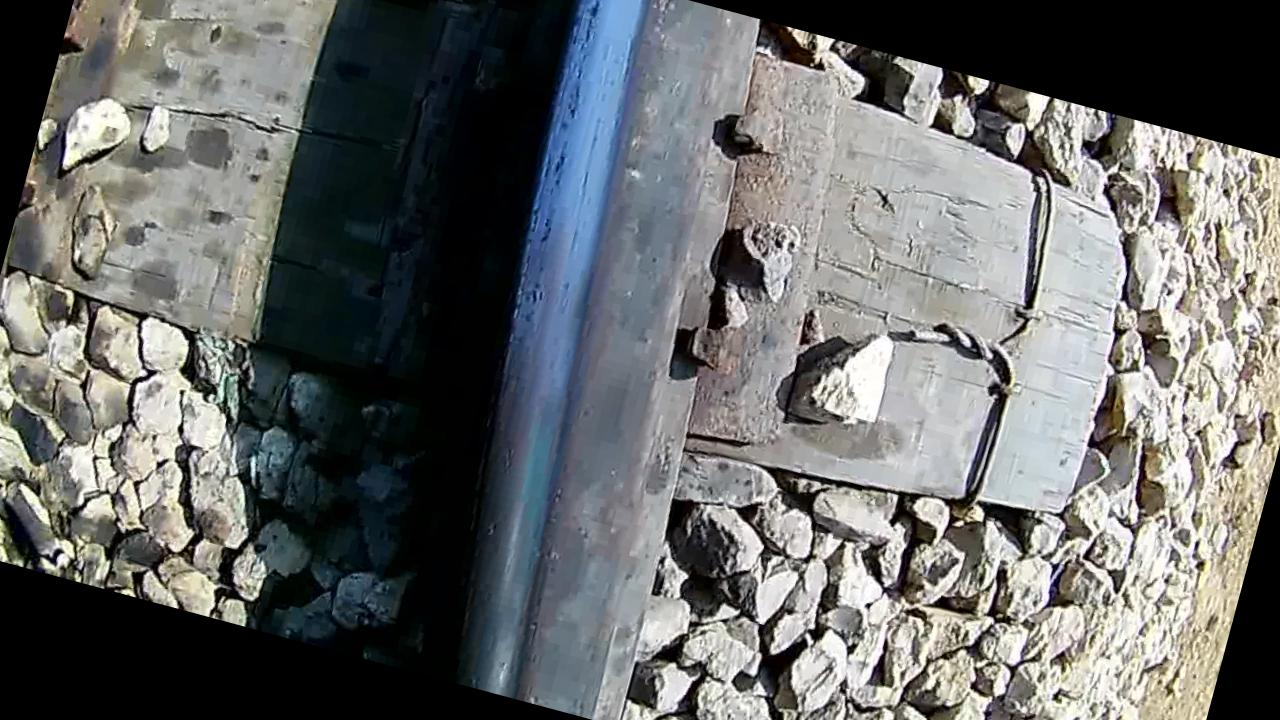crack: (399, 0, 749, 712)
